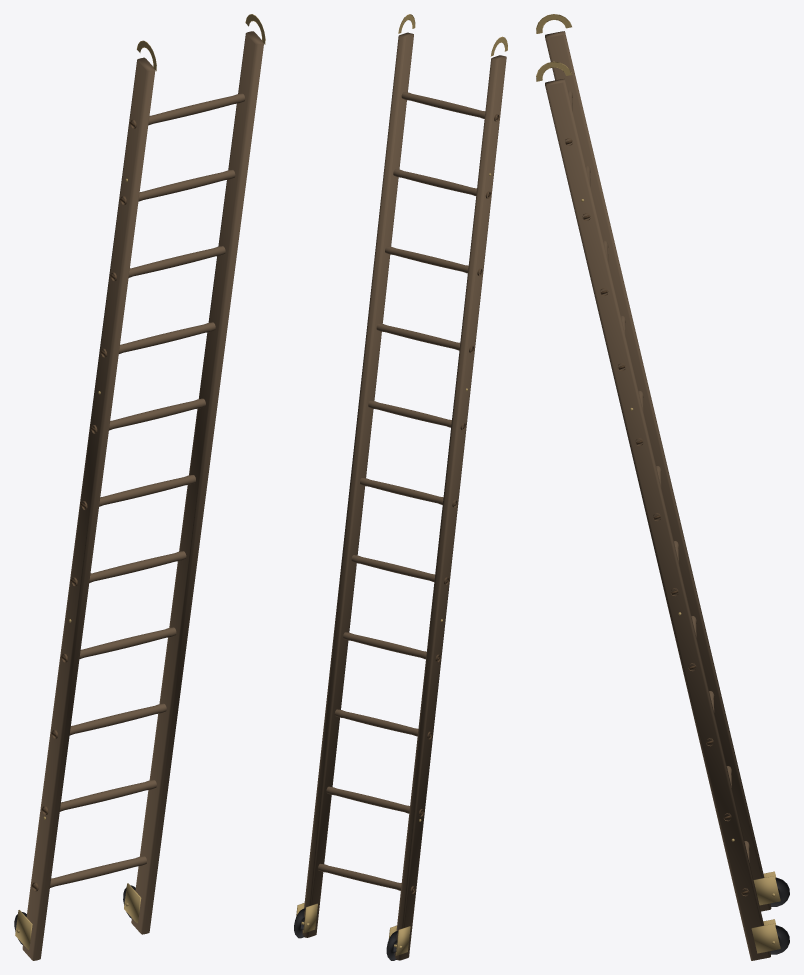
Rendered from library_ladder.glb.
3 renders of one model, left to right at view 1: azimuth 30°, elevation 25°; view 2: azimuth 150°, elevation 25°; view 3: azimuth 270°, elevation 25°, orthographic. The views are drawn at different scales.
Parts seen in each view (by area): view 1: ladderWood, ladderBrass; view 2: ladderWood, ladderBrass, ladderRubber; view 3: ladderWood, ladderBrass, ladderRubber.
Boxes of the visible parts, box(x1,y1,x2,y2) form: ladderWood: box(22, 31, 263, 960); ladderBrass: box(15, 14, 265, 949); ladderWood: box(302, 32, 506, 960); ladderBrass: box(296, 14, 507, 955); ladderRubber: box(294, 908, 398, 960); ladderWood: box(545, 31, 771, 960); ladderBrass: box(536, 14, 780, 953); ladderRubber: box(770, 877, 789, 954).
Bounding box in the file's own units: 0.59 × 4.56 × 1.17.
